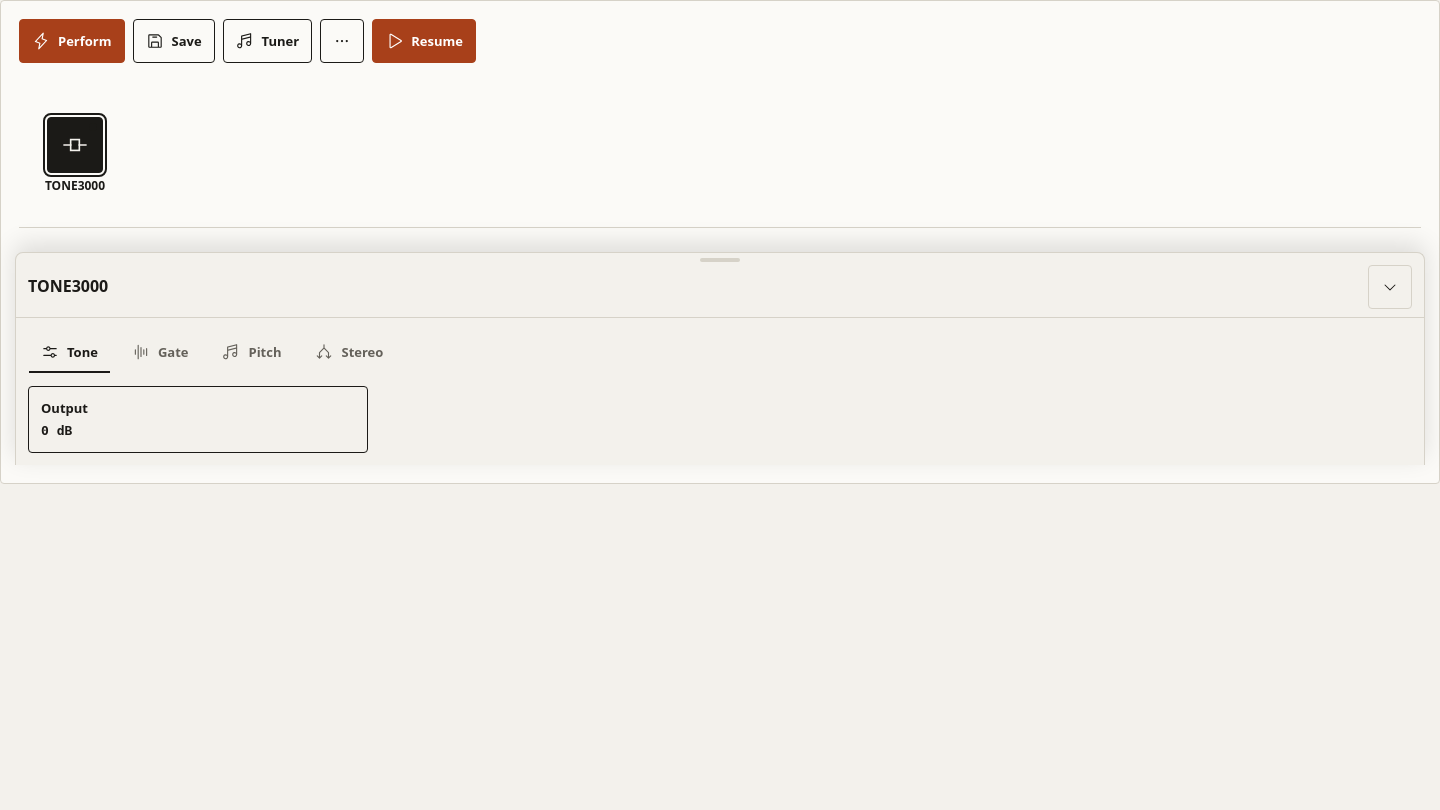
keeps hybrid save beside the chain and saves only a confirmed opening
Check: the field labelled "Preset name" is not shown
Step 1. Click the button with aria-label "Save copy" → (174, 41), box [132,19,215,63]
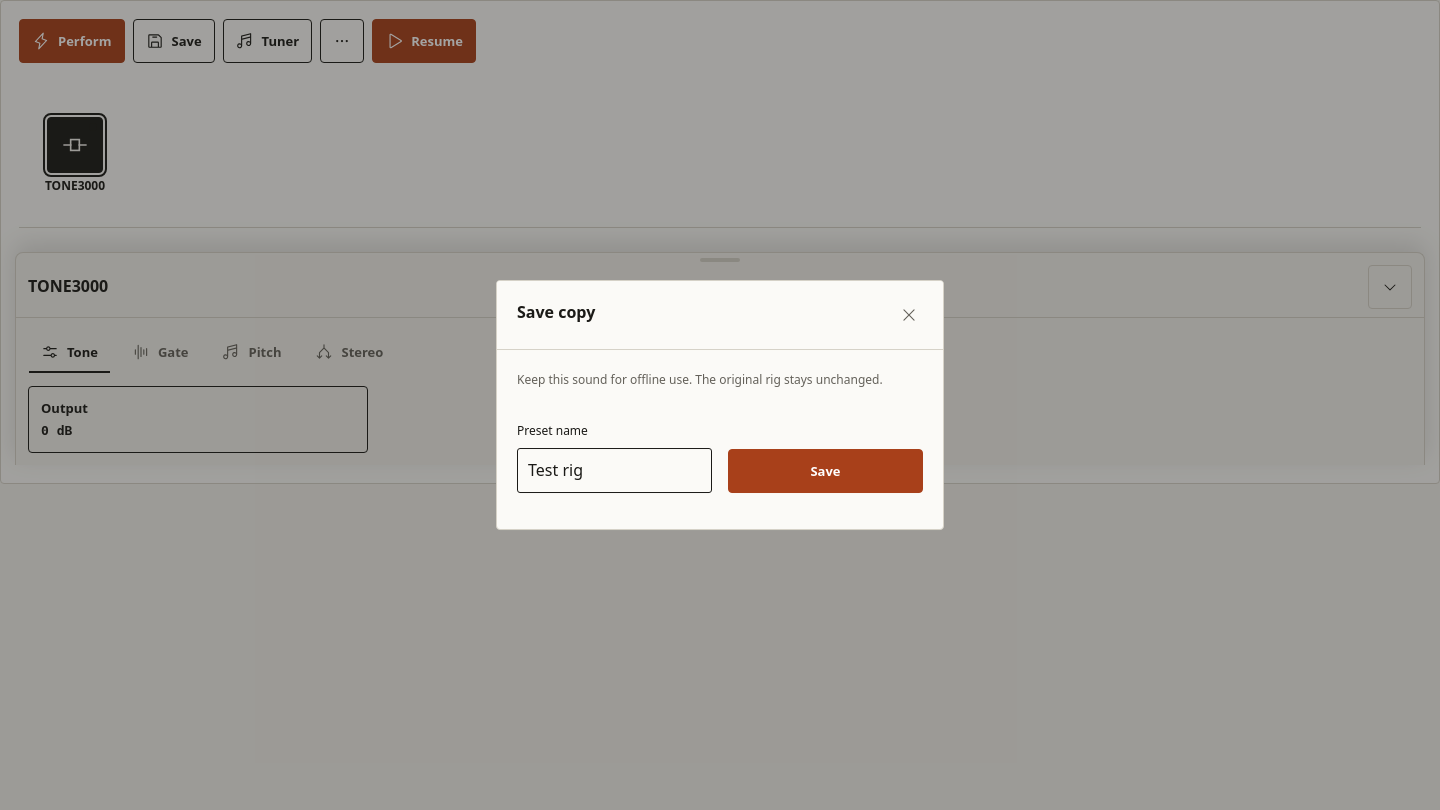
Check: the field labelled "Preset name" holds "Test rig"
Step 2. Replace the text in the field with "My stage sound" → (614, 470), box [517,448,712,493]
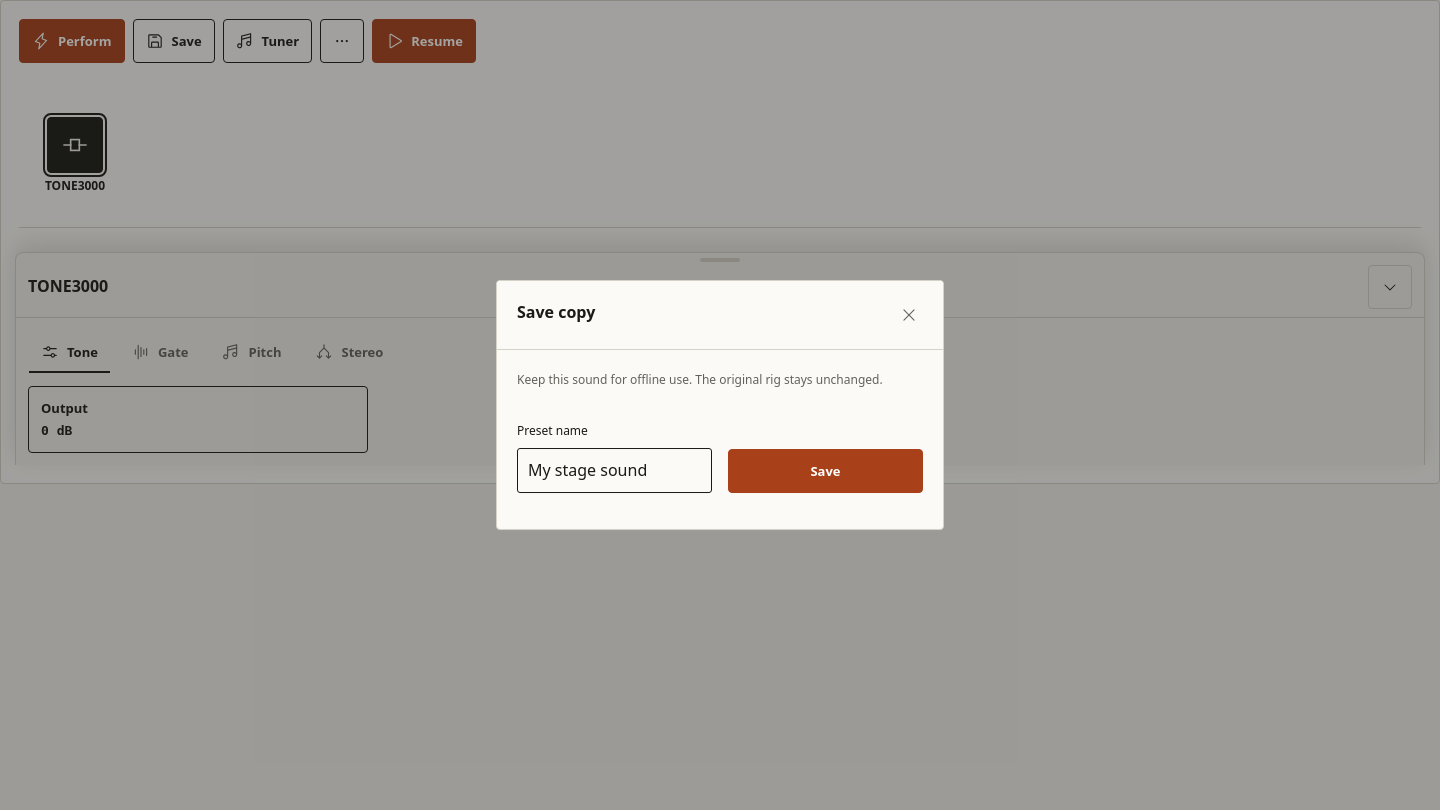
Step 3. Click the button "Save" → (826, 471), box [728,449,923,493]
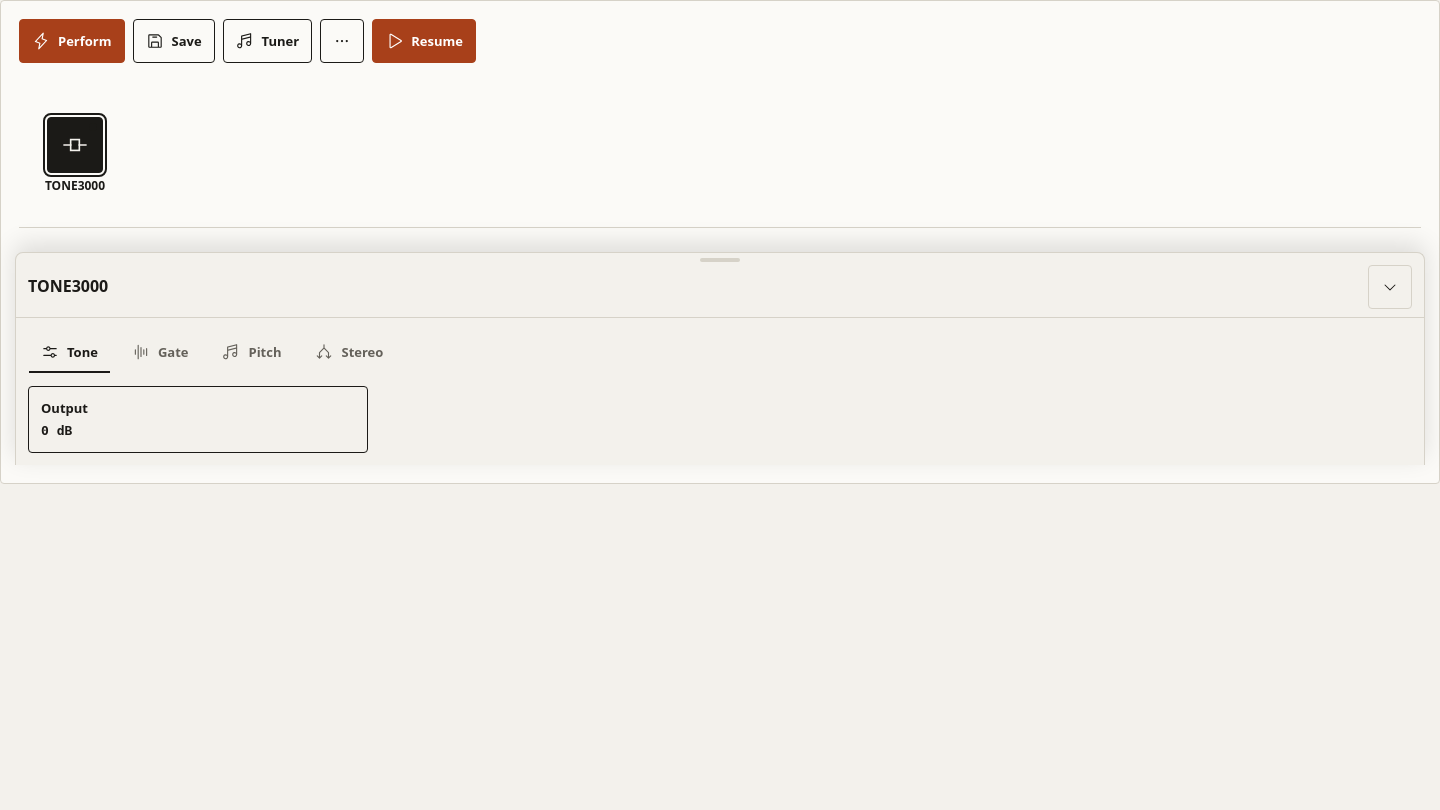
Check: the dialog is gone
